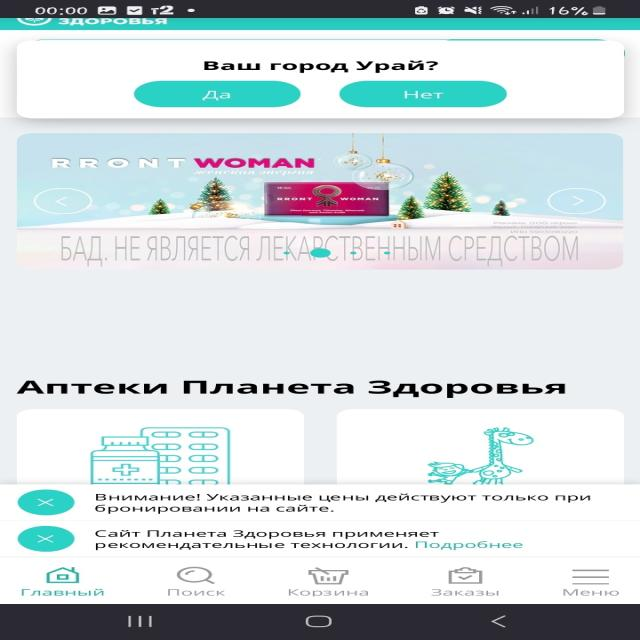button: (136, 79, 302, 108), (342, 80, 509, 108), (18, 527, 73, 553), (20, 490, 73, 514)
site: (18, 41, 626, 120), (2, 486, 640, 522), (0, 524, 640, 554)
